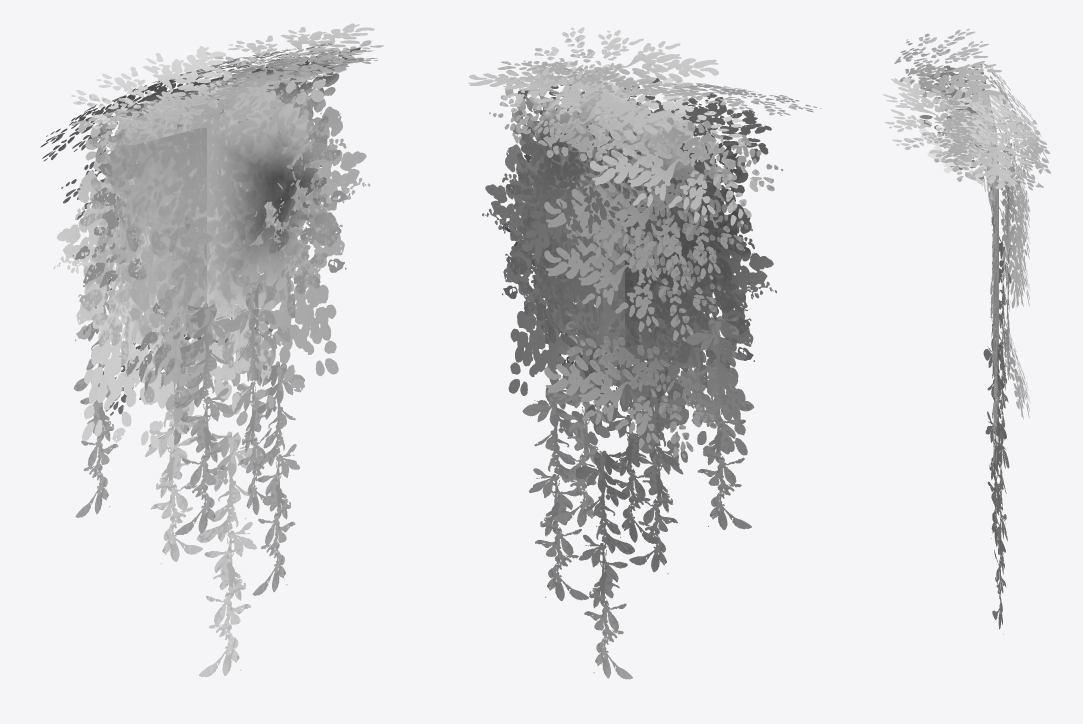
Rendered from moss2.fbx.
3 renders of one model, left to right at view 1: azimuth 30°, elevation 25°; view 2: azimuth 150°, elevation 25°; view 3: azimuth 270°, elevation 25°, orthographic. The views are drawn at different scales.
Visible parts, largest first — view 1: Object045; view 2: Object045; view 3: Object045.
Part boxes in pixels (x1,y1,x2,y2): Object045: (40,23,383,677); Object045: (468,27,821,679); Object045: (883,28,1050,634).
Bounding box in the file's own units: 333 × 594 × 181.
